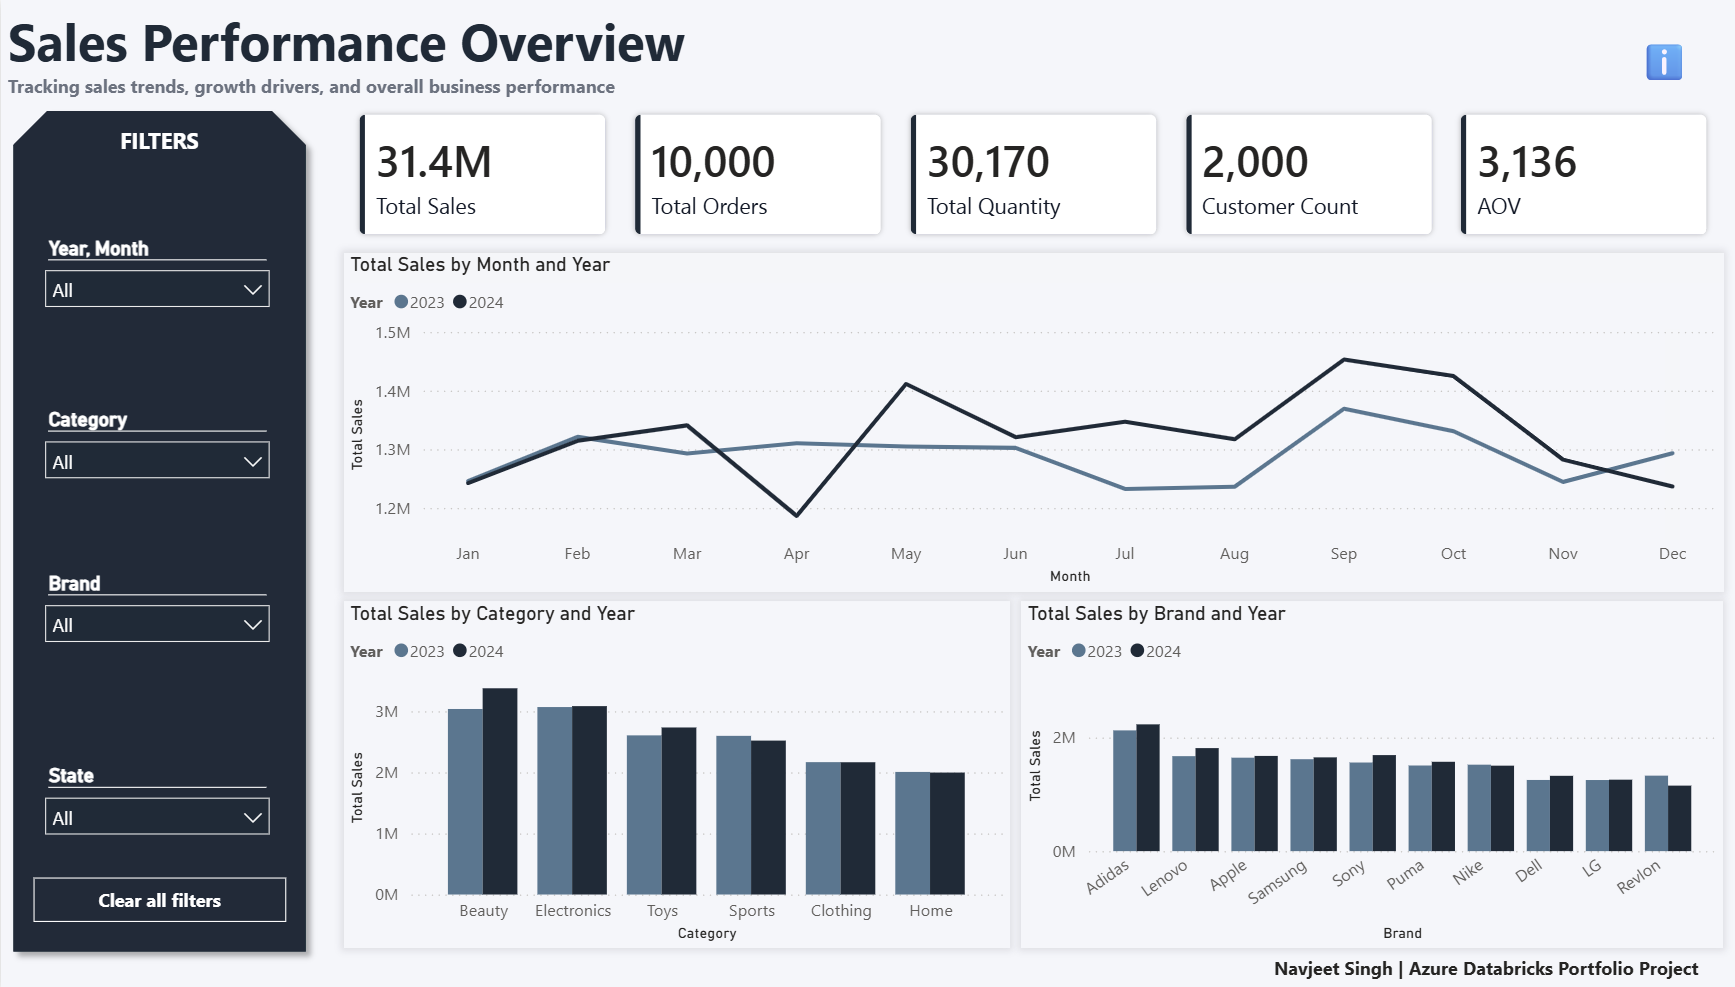

This screenshot's page, from the dashboard's own definition file:
{"tool":"powerbi","page":{"name":"Sales Overview","canvas":[1280,730],"ordinal":0},"visuals":[{"type":"shape","box":[0,72.5,233.8,638],"z":0},{"type":"textbox","box":[0,0,1280,82.5],"z":1000},{"type":"cardVisual","fields":{"Data":["KPIs.Total Sales","KPIs.Total Orders","KPIs.Total Quantity","KPIs.Customer Count","KPIs.AOV"]},"box":[252.5,72.5,1017.5,112.5],"z":2000},{"type":"lineChart","fields":{"Category":["dimcalendar.MonthName"],"Y":["KPIs.Total Sales"],"Series":["dimcalendar.Year"]},"box":[252.5,186.2,1017.5,250],"z":3000},{"type":"slicer","fields":{"Values":["dimcalendar.Year","dimcalendar.MonthName"]},"box":[22.5,169.5,186.2,80],"z":4000},{"type":"slicer","fields":{"Values":["dimproducts.category"]},"box":[22.5,295.8,186.2,80],"z":5000},{"type":"slicer","fields":{"Values":["dimproducts.brand"]},"box":[22.5,417,186.2,80],"z":6000},{"type":"slicer","fields":{"Values":["dimcustomers.state"]},"box":[22.5,558.3,186.2,80],"z":7000},{"type":"clusteredColumnChart","title":"Total Sales by Category and Year","fields":{"Category":["dimproducts.category"],"Y":["KPIs.Total Sales"],"Series":["dimcalendar.Year"]},"box":[252.5,443.5,491.2,256.2],"z":8000},{"type":"clusteredColumnChart","fields":{"Category":["dimproducts.brand"],"Y":["KPIs.Total Sales"],"Series":["dimcalendar.Year"]},"box":[752.5,443.5,517.5,256.2],"z":8001},{"type":"textbox","box":[933.8,700,346.2,30],"z":8002},{"type":"cardVisual","fields":{"Data":["KPIs.Page 3 Questions"]},"box":[1196.3,17.1,58.7,50.2],"z":8003},{"type":"actionButton","box":[23.8,647.5,186.2,32.5],"z":8004}]}

Visuals, with their boxes in screenshot pixels (x1, y1, x2, y2), scaled from the page's 1280x730 canvas onto the 1735x987 screenshot:
shape: 0 98 317 961
textbox: 0 0 1734 112
cardVisual - KPIs.Total Sales x KPIs.Total Orders: 342 98 1721 250
lineChart - dimcalendar.MonthName x KPIs.Total Sales: 342 252 1721 590
slicer - dimcalendar.Year x dimcalendar.MonthName: 30 229 283 337
slicer - dimproducts.category: 30 400 283 508
slicer - dimproducts.brand: 30 564 283 672
slicer - dimcustomers.state: 30 755 283 863
"Total Sales by Category and Year" clusteredColumnChart: 342 600 1008 946
clusteredColumnChart - dimproducts.brand x KPIs.Total Sales: 1020 600 1721 946
textbox: 1266 946 1734 986
cardVisual - KPIs.Page 3 Questions: 1622 23 1701 91
actionButton: 32 875 285 919
